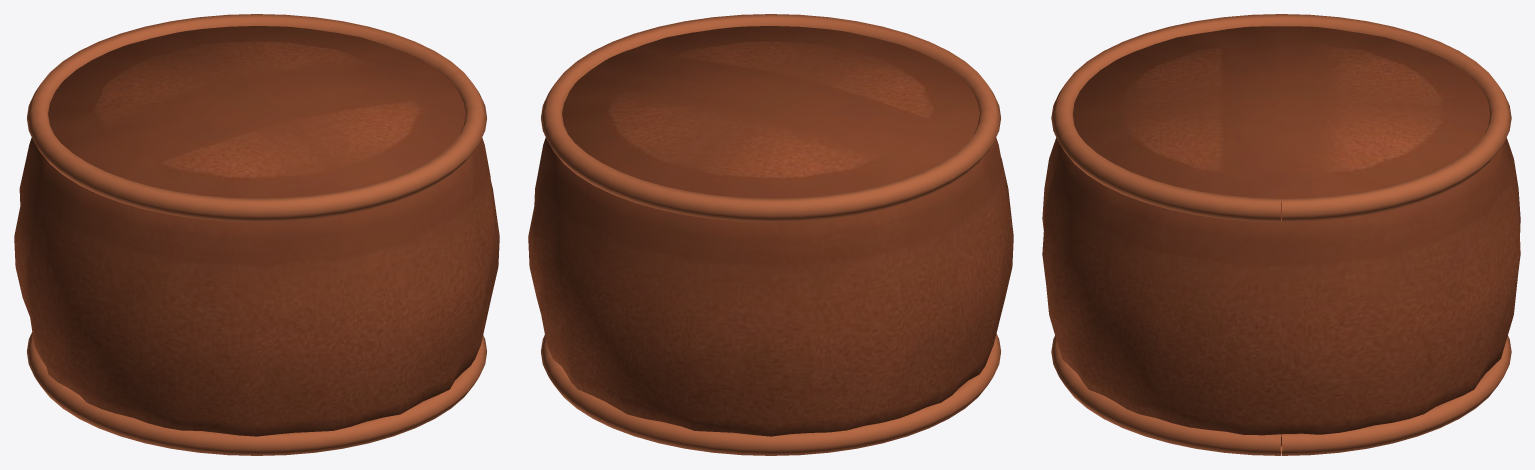
The model's file is pouf_rust.glb.
The picture shows the model from 3 angles, left to right: view 1: azimuth 30°, elevation 25°; view 2: azimuth 150°, elevation 25°; view 3: azimuth 270°, elevation 25°; orthographic projection.
Visible parts, largest first — view 1: pouf_rust_felt_rust, pouf_rust_yarn_rust; view 2: pouf_rust_felt_rust, pouf_rust_yarn_rust; view 3: pouf_rust_felt_rust, pouf_rust_yarn_rust.
Boxes of the visible parts, x1=… form: pouf_rust_felt_rust: x1=14, y1=26, x2=499, y2=436; pouf_rust_yarn_rust: x1=27, y1=14, x2=486, y2=455; pouf_rust_felt_rust: x1=528, y1=26, x2=1013, y2=436; pouf_rust_yarn_rust: x1=541, y1=14, x2=1000, y2=455; pouf_rust_felt_rust: x1=1042, y1=26, x2=1520, y2=445; pouf_rust_yarn_rust: x1=1051, y1=14, x2=1511, y2=455.
Bounding box in the file's own units: 1.28 × 0.7877 × 1.28.
2 materials, 1 textured.
